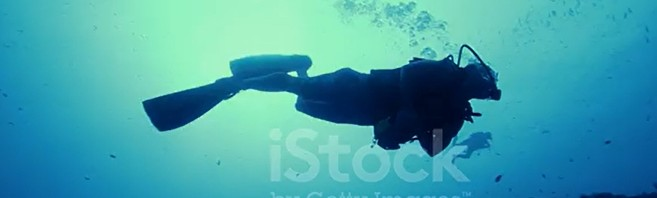human: (142, 49, 502, 156)
